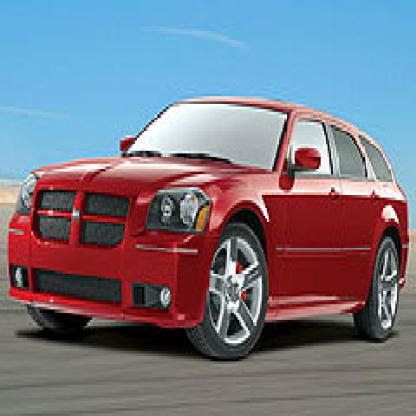Vehicle: (9, 94, 414, 364)
